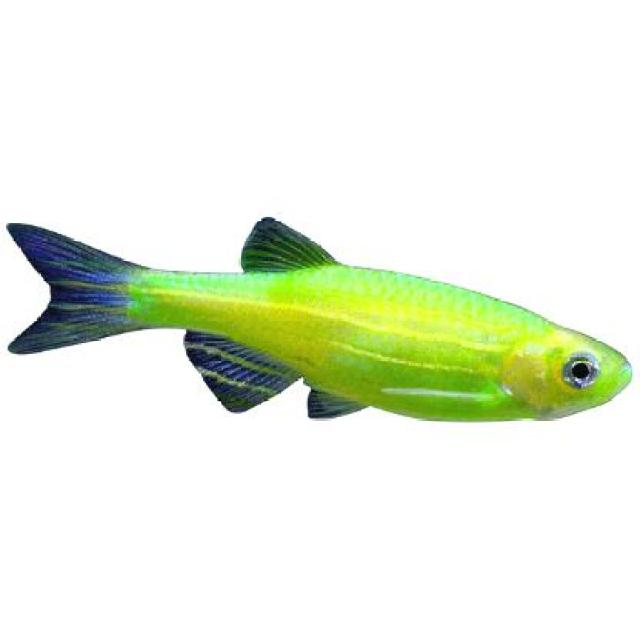ZebraFish: (2, 212, 635, 428)
